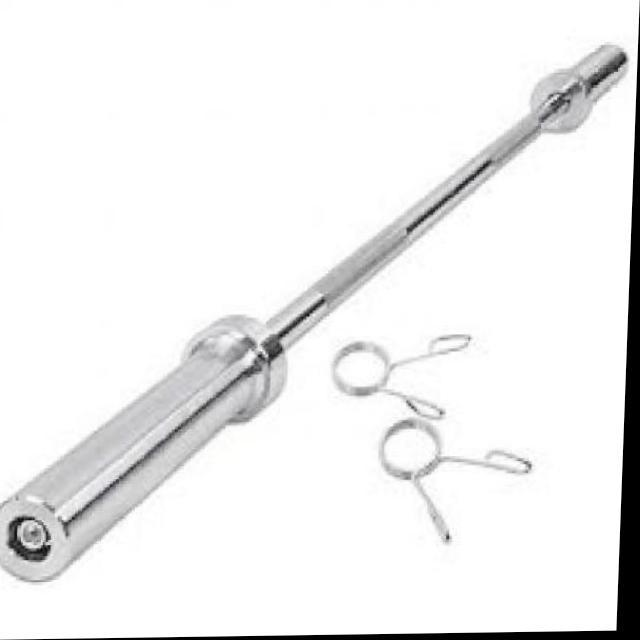barbell: (1, 304, 301, 589)
